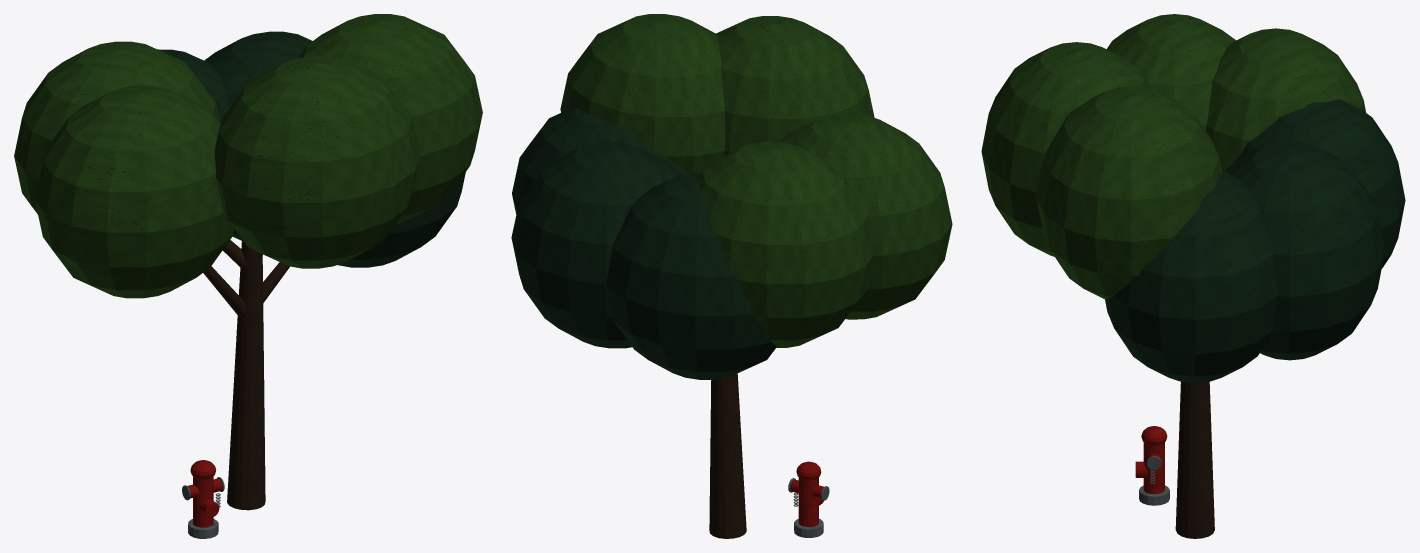
The model's file is PROP-ED73F6D75EF1_lod0.glb.
3 renders of one model, left to right at view 1: azimuth 30°, elevation 25°; view 2: azimuth 150°, elevation 25°; view 3: azimuth 270°, elevation 25°, orthographic. The views are drawn at different scales.
Parts seen in each view (by area): view 1: leaf_crown.082, leaf_crown.081, trunk.074, branch.046, hydrant_barrel; view 2: leaf_crown.082, leaf_crown.081, trunk.074, hydrant_barrel; view 3: leaf_crown.082, leaf_crown.081, trunk.074, hydrant_barrel.
Boxes of the visible parts, <box> form: leaf_crown.082: <box>14,14,482,298</box>; leaf_crown.081: <box>157,31,465,267</box>; trunk.074: <box>227,239,265,510</box>; branch.046: <box>203,240,289,318</box>; hydrant_barrel: <box>193,476,213,527</box>; leaf_crown.082: <box>560,14,952,347</box>; leaf_crown.081: <box>511,108,776,379</box>; trunk.074: <box>709,373,746,538</box>; hydrant_barrel: <box>798,477,818,526</box>; leaf_crown.082: <box>981,14,1365,299</box>; leaf_crown.081: <box>1105,99,1405,383</box>; trunk.074: <box>1175,382,1214,538</box>; hydrant_barrel: <box>1143,442,1164,494</box>.
Bounding box in the file's own units: 6.03 × 6.52 × 5.18.
5 materials, 5 textured.
